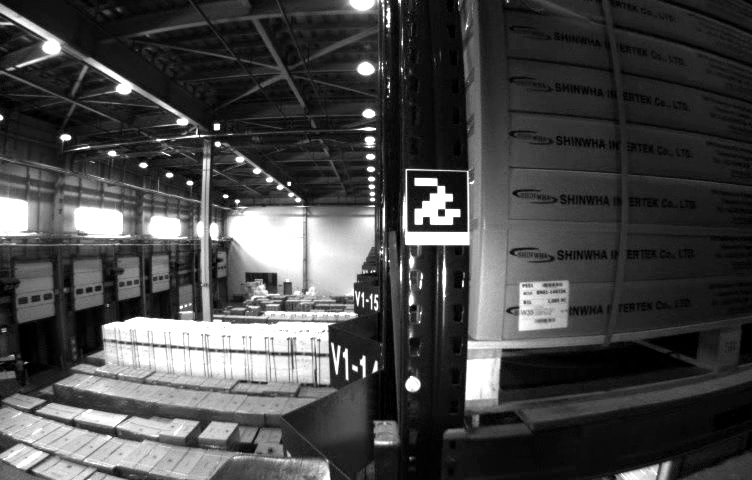True Barcode: (519, 278, 570, 329)
